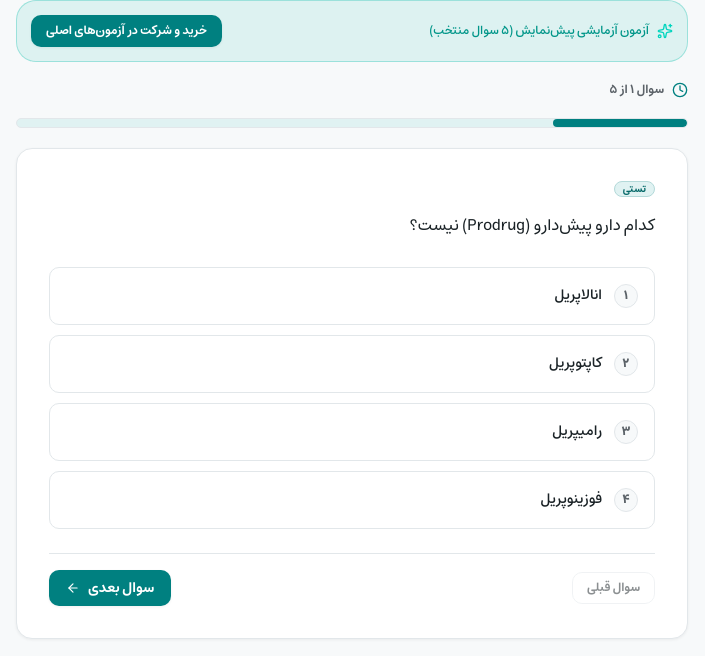
Test: Pre-Purchase Course Preview & Free Access UI QA Verification › QA Step 7: Quizzes tab provides 5 preview questions, conceals answer keys, and renders results with purchase CTA
The image size is (705, 656).
Expected: the text "کدام دارو پیش‌دارو (Prodrug) نیست؟" is shown, [409,211,655,239]
Expected: the text "انالاپریل" is shown, [554,283,602,307]
// Select answer "کاپتوپریل"
Click the text "کاپتوپریل": (575, 363) [549,351,602,375]
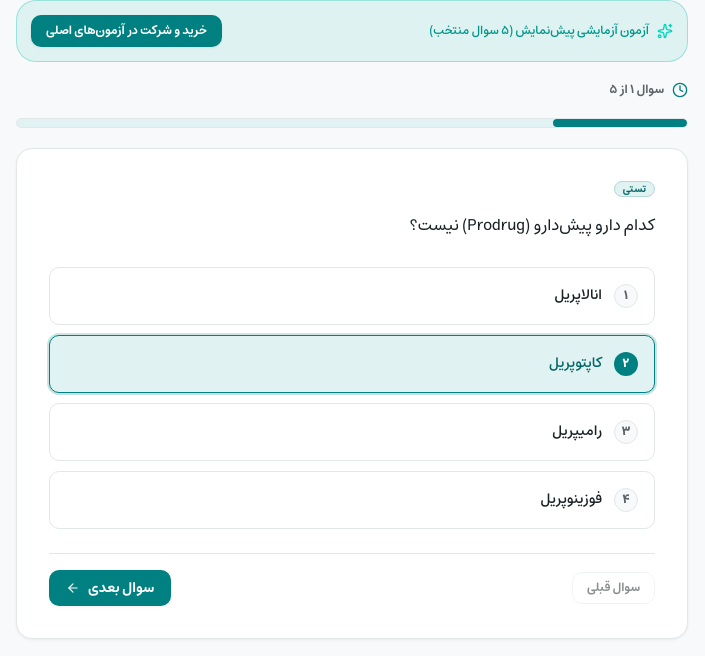
// Advance to next question
Click the button "سوال بعدی": (110, 588) [49,570,171,606]
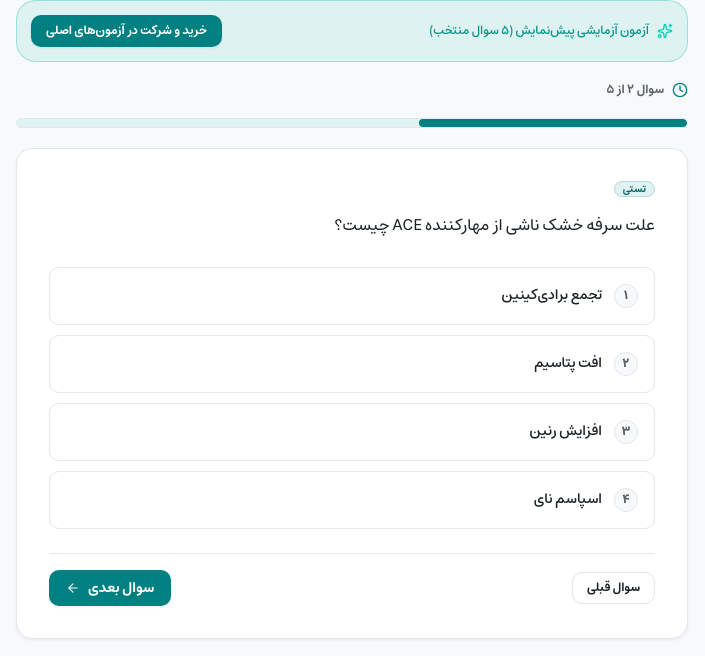
Now the text "علت سرفه خشک ناشی از مهارکننده ACE چیست؟" is shown, box [334,211,655,239]
